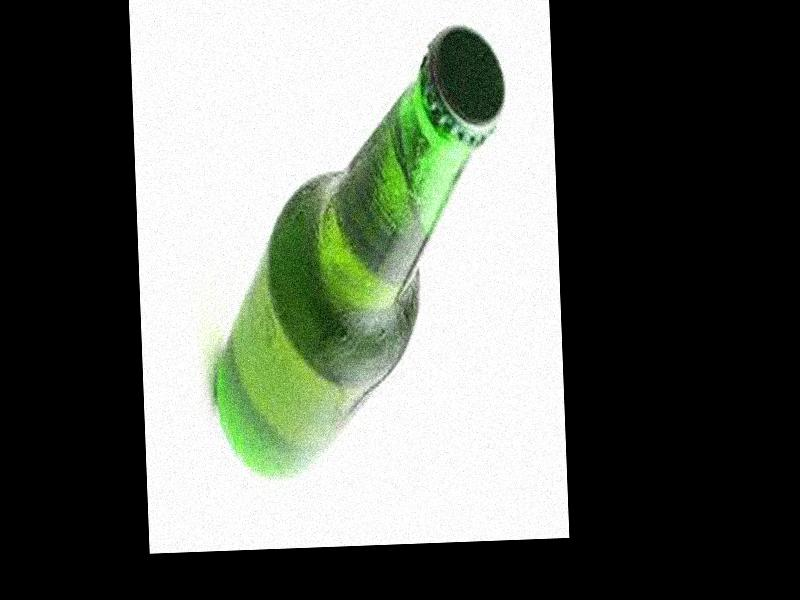Beer: (199, 24, 518, 483)
